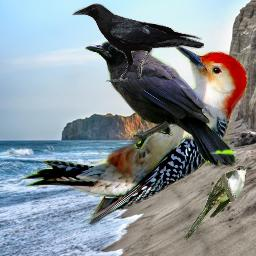Crow: (85, 39, 237, 167), (72, 2, 204, 82)
Cuckoo: (183, 165, 252, 242)
Woodpecker: (21, 44, 248, 227)
